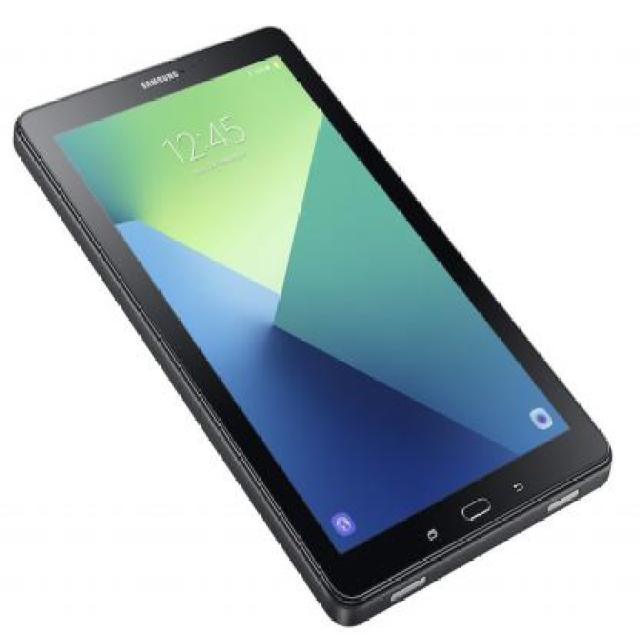tablet: (15, 16, 612, 630)
